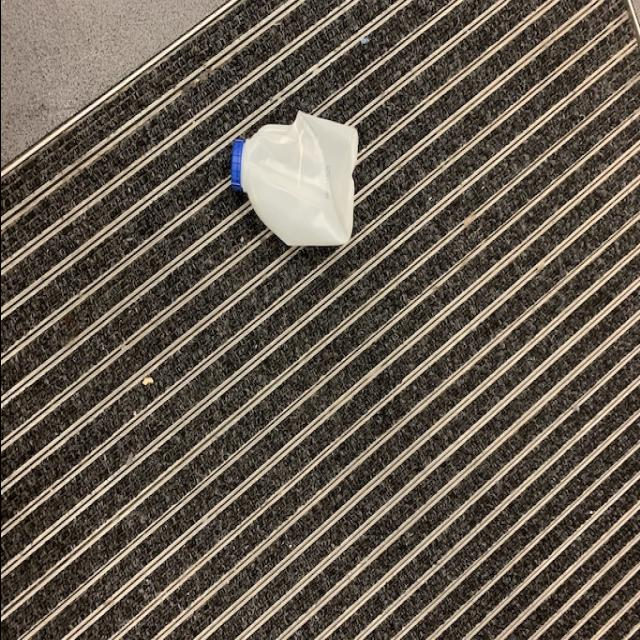litter: (212, 110, 364, 256)
